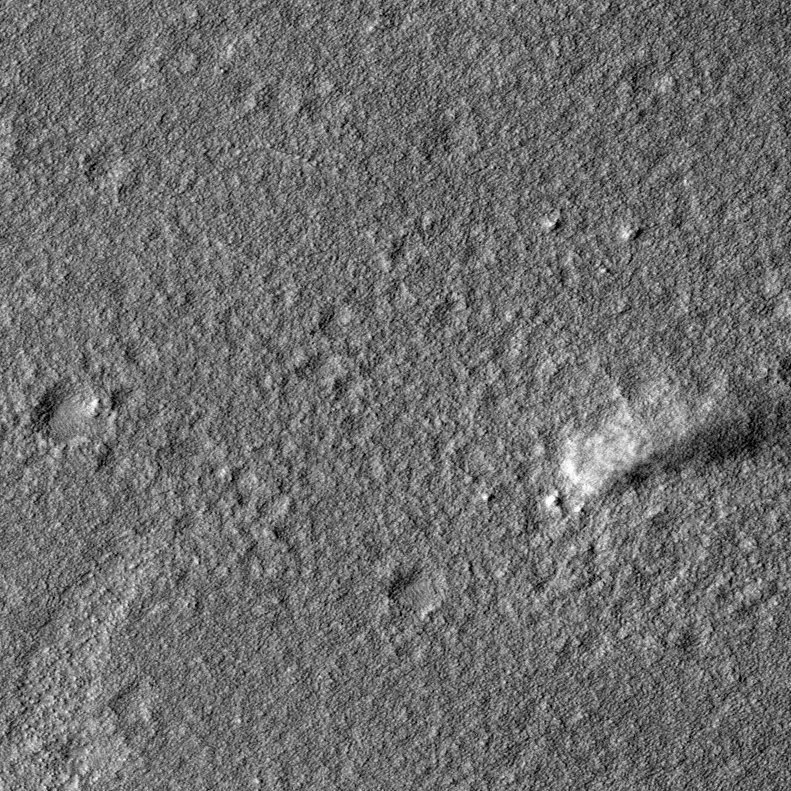dust_devil: (537, 370, 791, 522)
